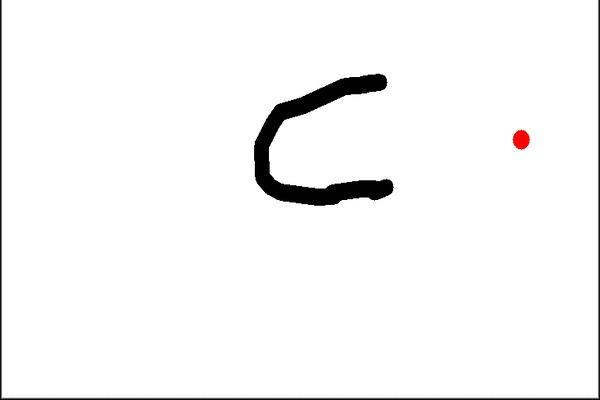C: (247, 63, 399, 210)
